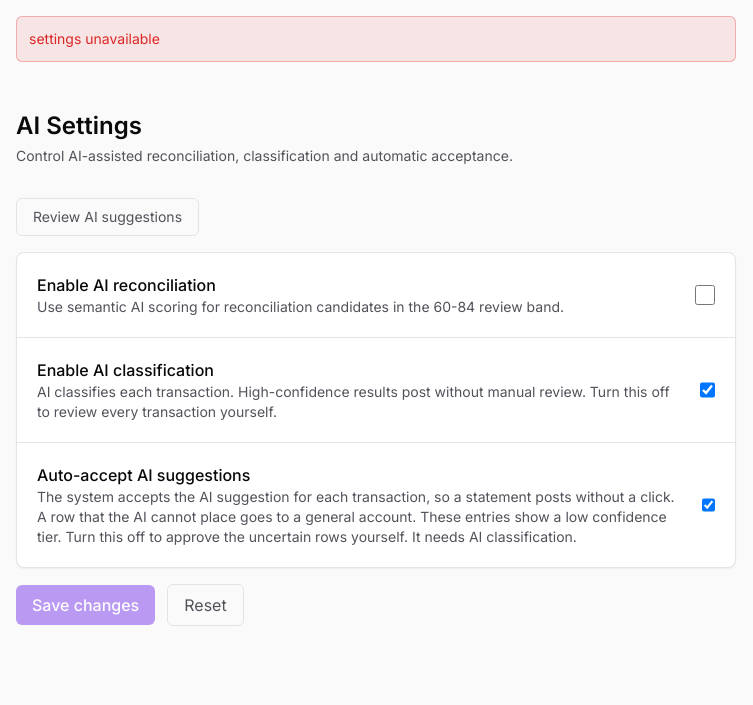
Scenario: EPIC-018 / UI Gap Audit / Phase 5 Confidence + AI Review UI › test_AC8_13_48 — AI settings handles load and reconciliation update failures
Expected: the message reads "settings unavailable", [29,30,160,47]
Click the checkbox labelled "Enable AI reconciliation" at (705, 295), box [695,285,715,305]
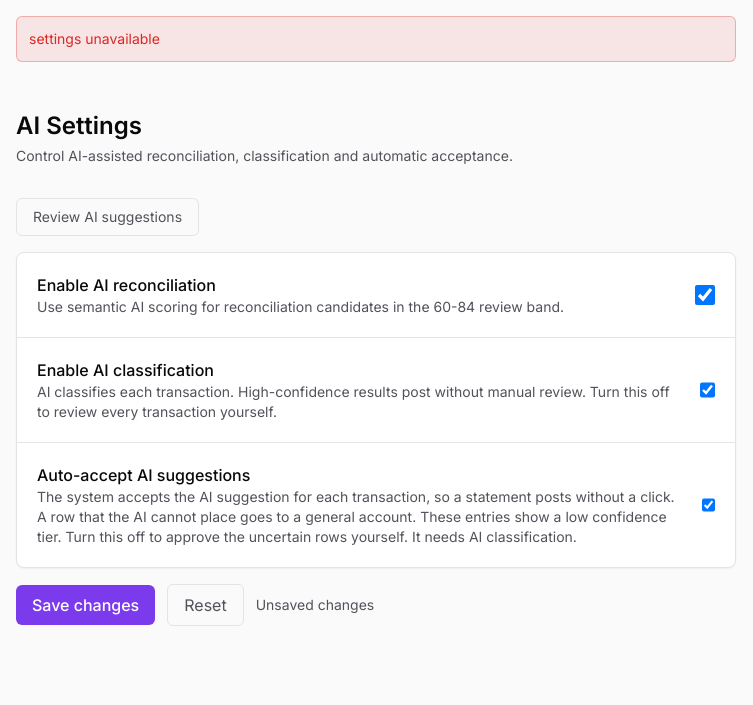
Click the button "Save changes" at (86, 605), box [16,585,155,625]
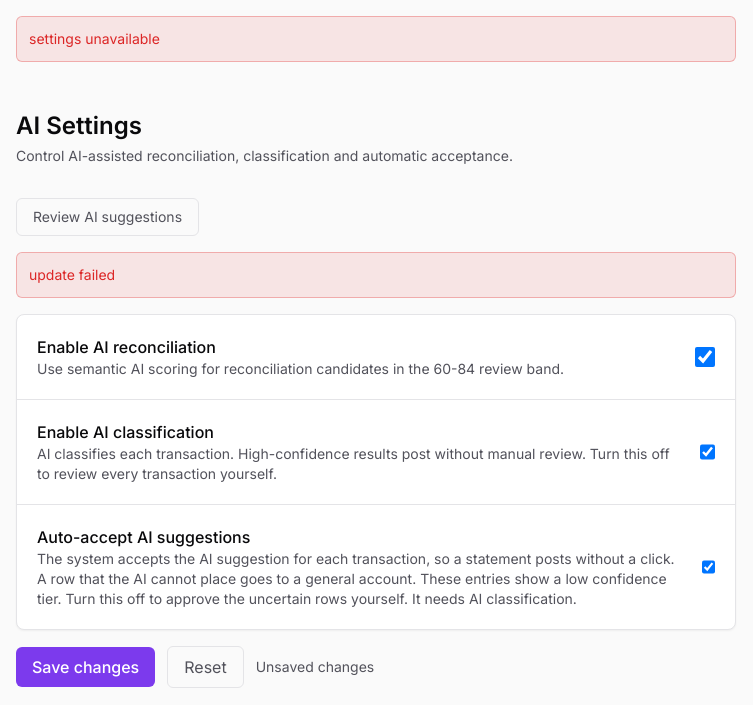
Expected: the text "update failed" is shown, [16,252,736,298]
